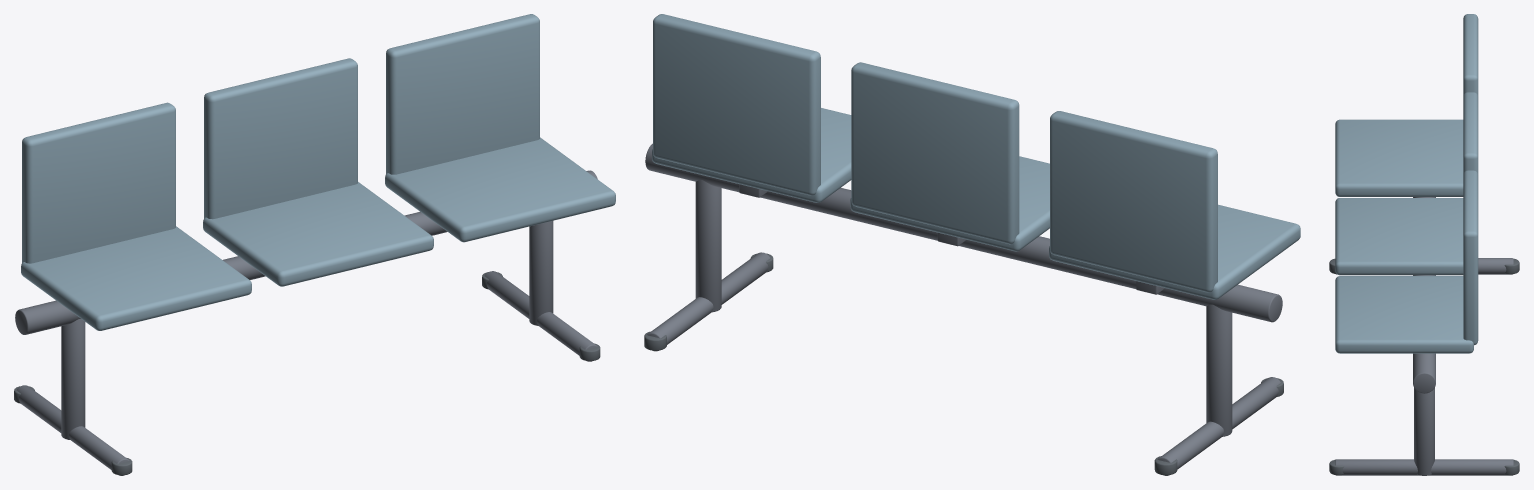
Rendered from waiting_bench.glb.
3 views of the same model, side by side, from view 1: azimuth 30°, elevation 25°; view 2: azimuth 150°, elevation 25°; view 3: azimuth 270°, elevation 25° (orthographic). The views are drawn at different scales.
Visible parts, largest first — view 1: BackPan_0, BackPan_2, BackPan_1, SeatPan_0, SeatPan_2, SeatPan_1, LegVertical_L, MainBeam, LegVertical_R, FootBar_R, FootBar_L; view 2: BackPan_1, BackPan_2, BackPan_0, MainBeam, SeatPan_0, SeatPan_1, SeatPan_2, LegVertical_L, LegVertical_R, FootBar_R, FootBar_L; view 3: SeatPan_2, SeatPan_0, SeatPan_1, BackPan_2, FootBar_R, LegVertical_R, BackPan_0, BackPan_1, MainBeam, FootBar_L.
Boxes of the visible parts, x1,y1,x2,y2 form: BackPan_0: (22,102,175,263); BackPan_2: (386,14,539,174); BackPan_1: (204,58,357,219); SeatPan_0: (21,226,251,330); SeatPan_2: (385,137,615,242); SeatPan_1: (203,182,433,286); LegVertical_L: (61,319,85,439); MainBeam: (15,170,597,334); LegVertical_R: (529,221,553,325); FootBar_R: (485,271,597,361); FootBar_L: (16,385,129,475); BackPan_1: (851,62,1019,244); BackPan_2: (653,14,820,195); BackPan_0: (1050,111,1217,292); MainBeam: (645,143,1282,322); SeatPan_0: (1049,204,1300,299); SeatPan_1: (850,156,1049,251); SeatPan_2: (652,108,851,202); LegVertical_L: (1206,304,1232,436); LegVertical_R: (695,180,721,312); FootBar_R: (647,252,770,351); FootBar_L: (1157,377,1280,475); SeatPan_2: (1335,276,1473,353); SeatPan_0: (1335,119,1463,196); SeatPan_1: (1335,198,1463,275); BackPan_2: (1463,170,1478,345); FootBar_R: (1335,459,1513,475); LegVertical_R: (1414,388,1434,475); BackPan_0: (1463,14,1478,96); BackPan_1: (1463,92,1478,174); MainBeam: (1413,197,1435,393); FootBar_L: (1336,258,1513,274).
Bounding box in the file's own units: 1.76 × 0.84 × 0.576.
